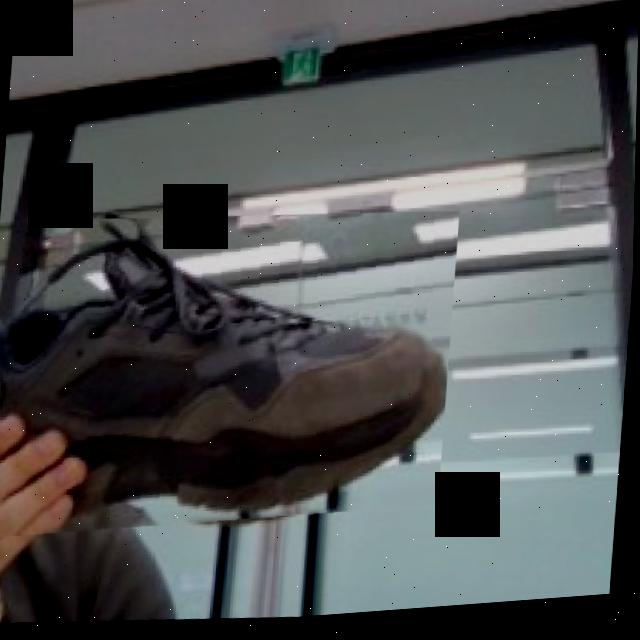shoe: (0, 194, 461, 561)
